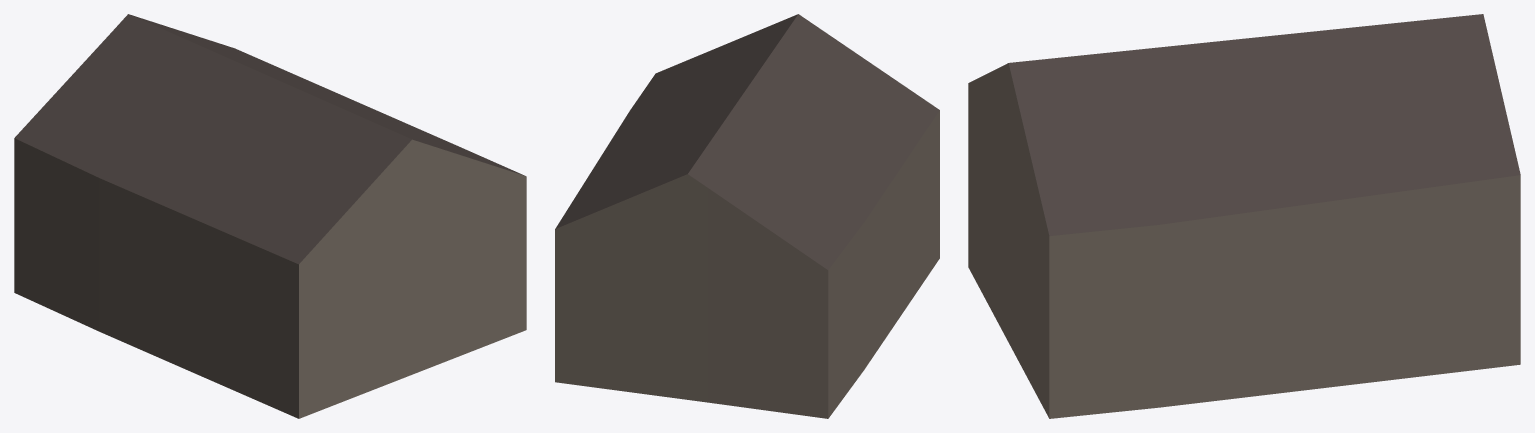
The picture shows the model from 3 angles, left to right: view 1: azimuth 30°, elevation 25°; view 2: azimuth 150°, elevation 25°; view 3: azimuth 270°, elevation 25°; orthographic projection. The views are drawn at different scales.
Visible parts, largest first — view 1: HP-w783664785; view 2: HP-w783664785; view 3: HP-w783664785.
Part boxes in pixels (x1,y1,x2,y2): HP-w783664785: [14, 14, 526, 418]; HP-w783664785: [555, 14, 939, 418]; HP-w783664785: [968, 14, 1520, 418].
Size of the model in its own units: 14.14 by 9.18 by 16.44.
